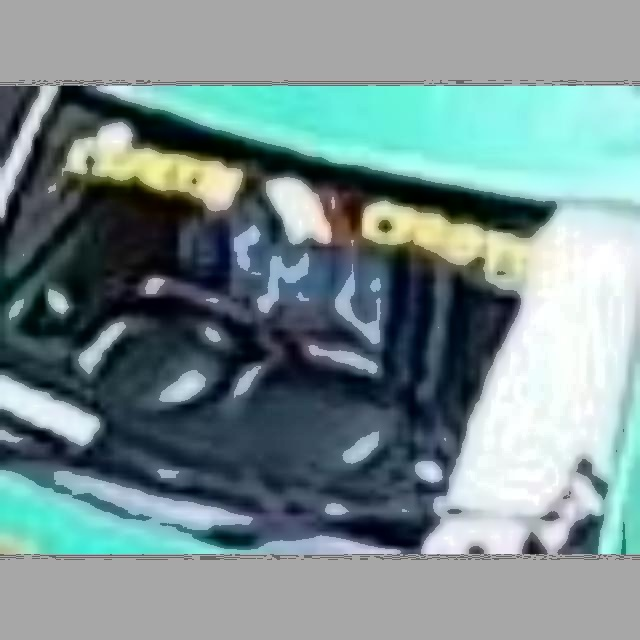tidak-pakai: (172, 192, 396, 390)
